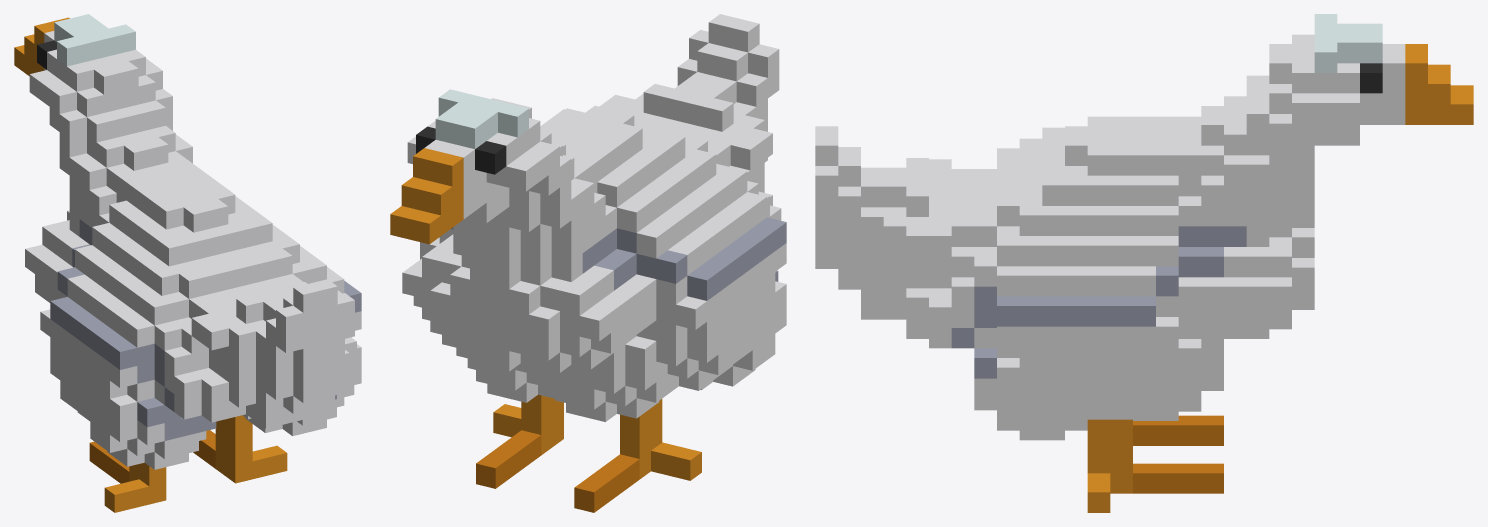
File: Medieval Assets-324-NPC - Chicken.obj
3 renders of one model, left to right at view 1: azimuth 30°, elevation 25°; view 2: azimuth 150°, elevation 25°; view 3: azimuth 270°, elevation 25°, orthographic. The views are drawn at different scales.
Visible parts, largest first — view 1: NPC - Chicken; view 2: NPC - Chicken; view 3: NPC - Chicken.
Boxes of the visible parts, box(x1,y1,x2,y2) form: NPC - Chicken: box(14, 14, 361, 512); NPC - Chicken: box(390, 14, 786, 512); NPC - Chicken: box(815, 14, 1473, 512).
Bounding box in the file's own units: 1.4 × 2.1 × 2.9.
1 material, 1 textured.
